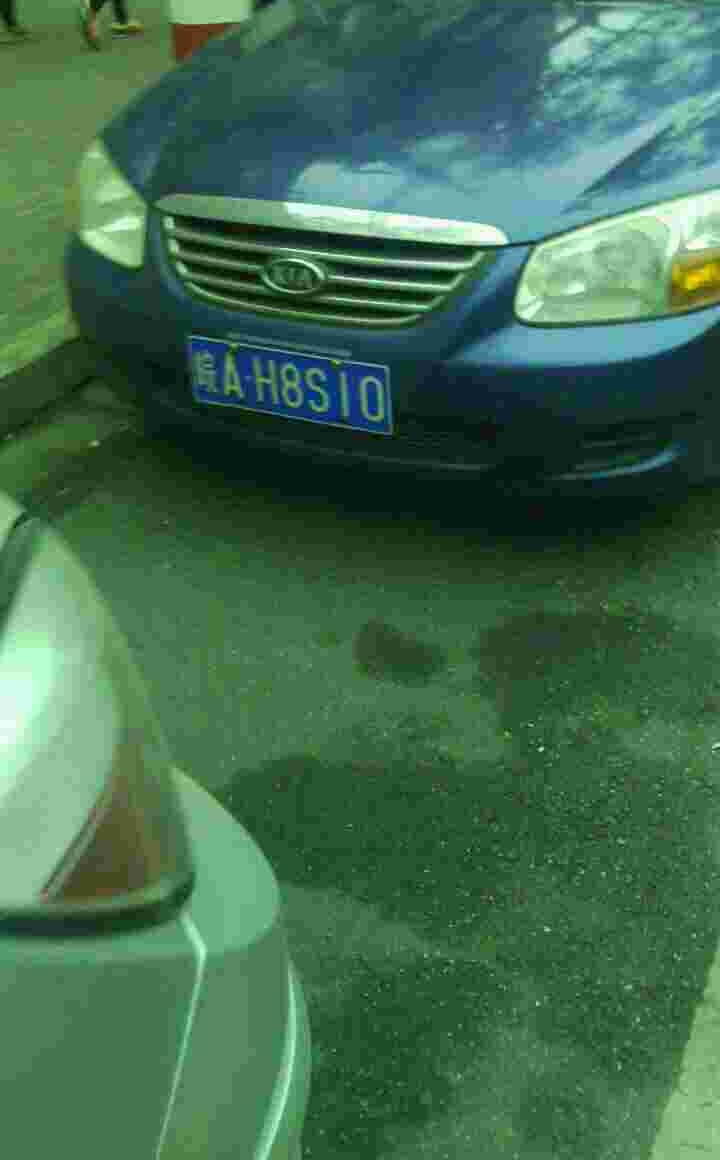license_plate: (192, 325, 395, 425)
